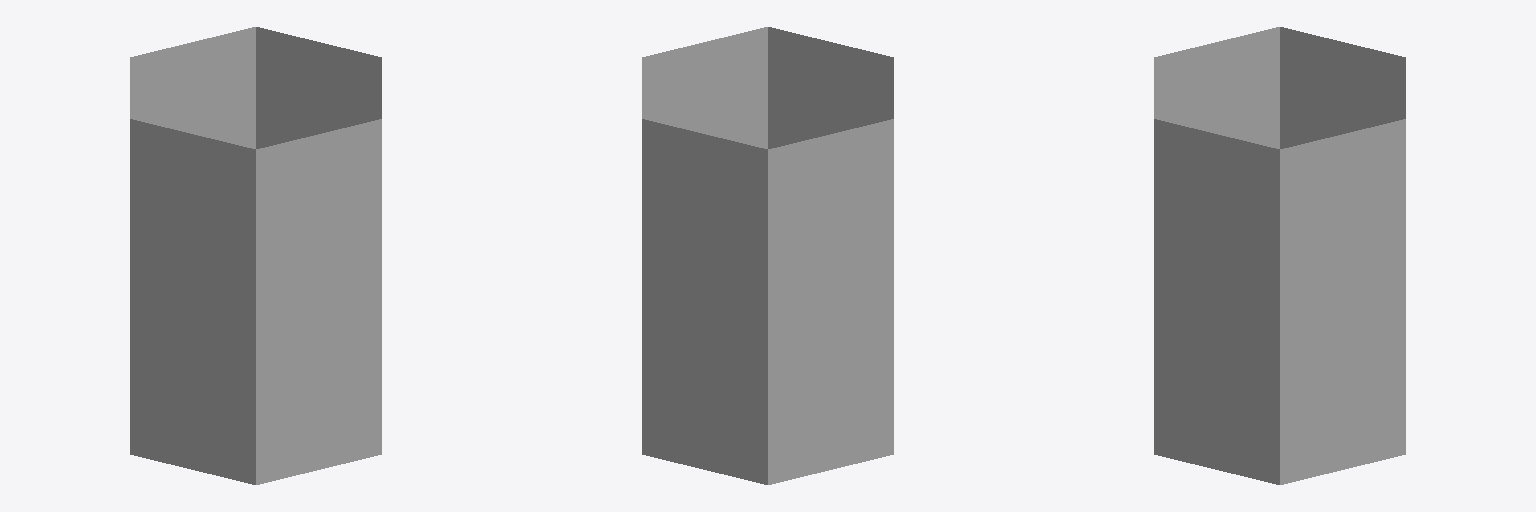
Rendered from a2_cut_0__8_1.obj.
3 renders of one model, left to right at view 1: azimuth 30°, elevation 25°; view 2: azimuth 150°, elevation 25°; view 3: azimuth 270°, elevation 25°, orthographic.
Parts seen in each view (by area): view 1: 0; view 2: 0; view 3: 0.
Part boxes in pixels (left/top/right/bottom): 0: left=130, top=27, right=381, bottom=484; 0: left=642, top=27, right=893, bottom=484; 0: left=1154, top=27, right=1405, bottom=484.
Size of the model in its own units: 19.63 by 25 by 17.